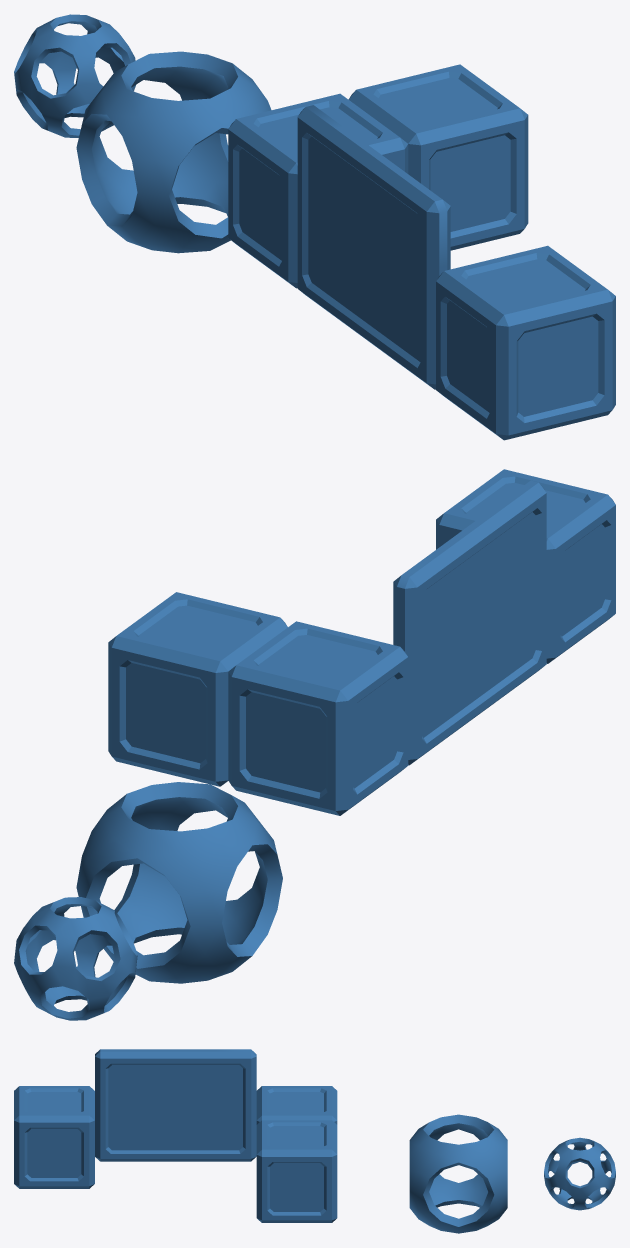
File: Item_Dragable_Set.fbx
The picture shows the model from 3 angles, top to bottom: view 1: azimuth 30°, elevation 25°; view 2: azimuth 150°, elevation 25°; view 3: azimuth 270°, elevation 25°; orthographic projection. The views are drawn at different scales.
Parts seen in each view (by area): view 1: DragBox_Two, DragBox_One, DragBox_VentDoor, mesh_NoiseBall_Cube, mesh_NoiseBall_Hax; view 2: DragBox_Two, DragBox_VentDoor, mesh_NoiseBall_Cube, DragBox_One, mesh_NoiseBall_Hax; view 3: DragBox_VentDoor, DragBox_Two, mesh_NoiseBall_Cube, DragBox_One, mesh_NoiseBall_Hax.
Part boxes in pixels (bbox=[...]): DragBox_Two: bbox=[228, 64, 528, 288]; DragBox_One: bbox=[436, 245, 615, 440]; DragBox_VentDoor: bbox=[297, 105, 450, 389]; mesh_NoiseBall_Cube: bbox=[76, 51, 271, 253]; mesh_NoiseBall_Hax: bbox=[14, 14, 135, 137]; DragBox_Two: bbox=[108, 592, 408, 815]; DragBox_VentDoor: bbox=[393, 480, 546, 765]; mesh_NoiseBall_Cube: bbox=[76, 782, 282, 983]; DragBox_One: bbox=[436, 469, 615, 663]; mesh_NoiseBall_Hax: bbox=[14, 897, 137, 1020]; DragBox_VentDoor: bbox=[95, 1049, 256, 1161]; DragBox_Two: bbox=[256, 1086, 337, 1222]; mesh_NoiseBall_Cube: bbox=[409, 1114, 507, 1233]; DragBox_One: bbox=[14, 1086, 94, 1188]; mesh_NoiseBall_Hax: bbox=[544, 1137, 615, 1210].
Size of the model in its own units: 82.94 by 82.94 by 293.
